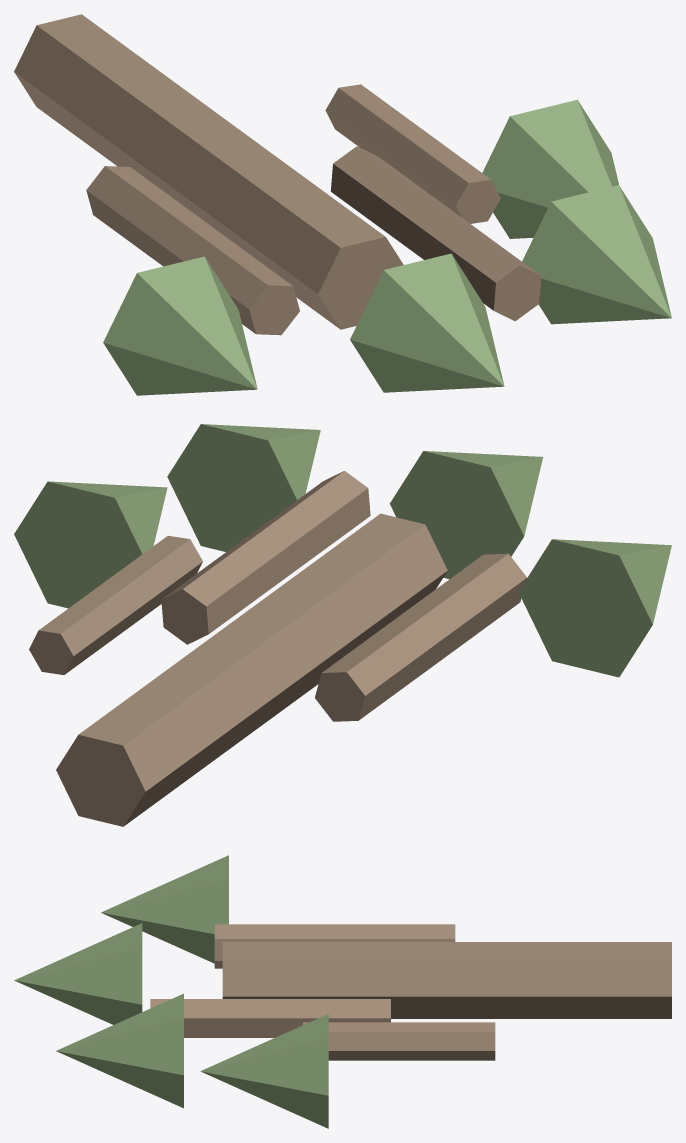
Rendered from joshua_tree.glb.
3 views of the same model, one above another, from view 1: azimuth 30°, elevation 25°; view 2: azimuth 150°, elevation 25°; view 3: azimuth 270°, elevation 25° (orthographic). The views are drawn at different scales.
Visible parts, largest first — view 1: world; view 2: world; view 3: world.
Boxes of the visible parts, x1,y1,x2,y2 form: world: [14, 14, 671, 395]; world: [14, 424, 671, 826]; world: [14, 855, 671, 1128].
Bounding box in the file's own units: 1.53 × 0.3118 × 2.05.
